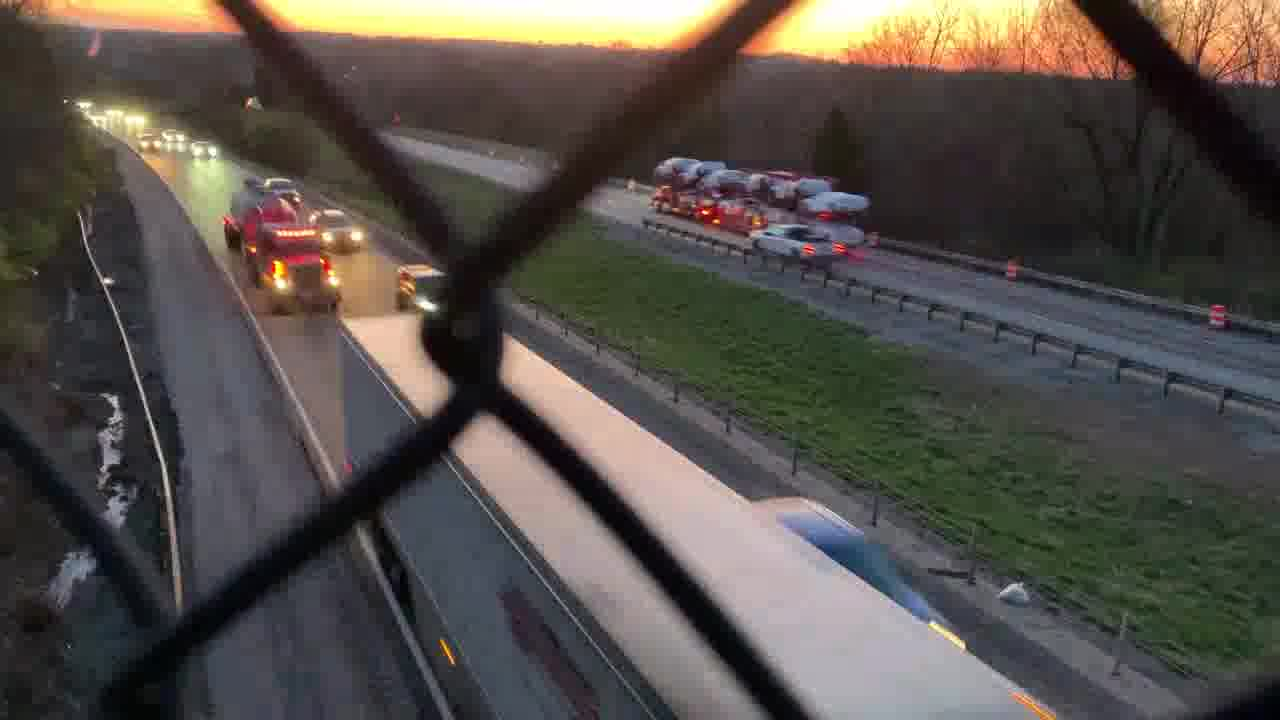heavyTruck: (332, 312, 1062, 720), (652, 126, 867, 228), (222, 183, 337, 317)
lightTruck: (754, 222, 856, 267)
smallCar: (314, 208, 367, 255)
